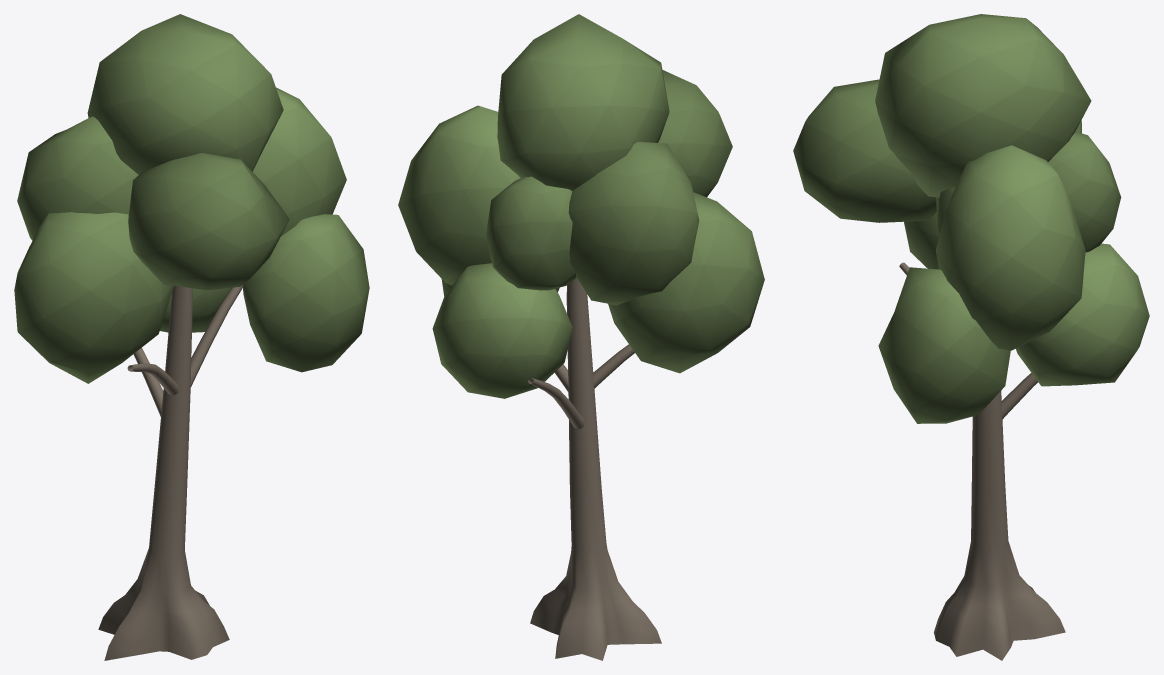
Rendered from decid_b.glb.
3 renders of one model, left to right at view 1: azimuth 30°, elevation 25°; view 2: azimuth 150°, elevation 25°; view 3: azimuth 270°, elevation 25°, orthographic. The views are drawn at different scales.
Visible parts, largest first — view 1: decid_b; view 2: decid_b; view 3: decid_b.
Boxes of the visible parts, <box> form: decid_b: <box>14,14,369,660</box>; decid_b: <box>398,14,764,660</box>; decid_b: <box>793,14,1149,660</box>.
Size of the model in its own units: 4.69 by 8.18 by 4.25.
